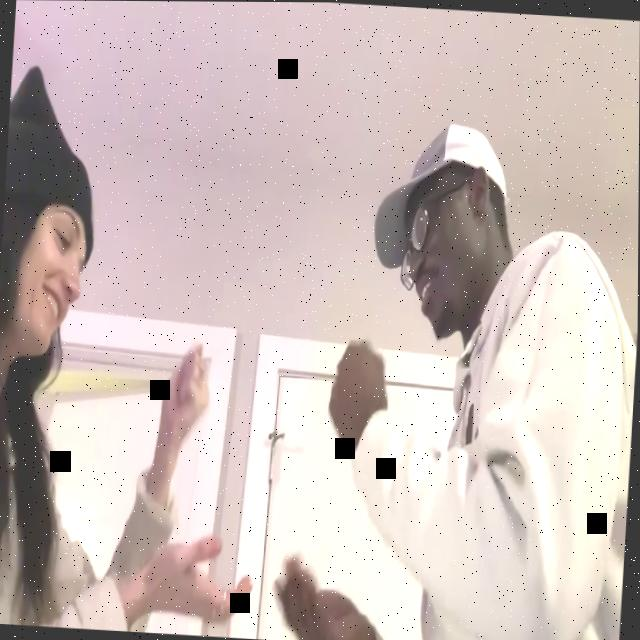Rock: (327, 336, 392, 453), (159, 339, 213, 442)
